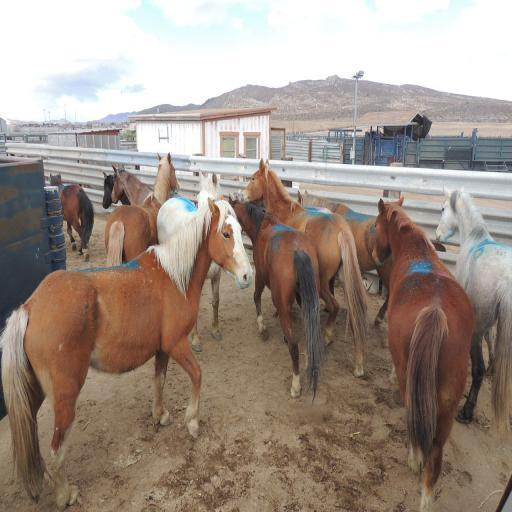horse: (0, 195, 253, 511), (100, 152, 395, 401), (369, 196, 476, 512), (435, 182, 511, 426), (48, 169, 96, 262)
